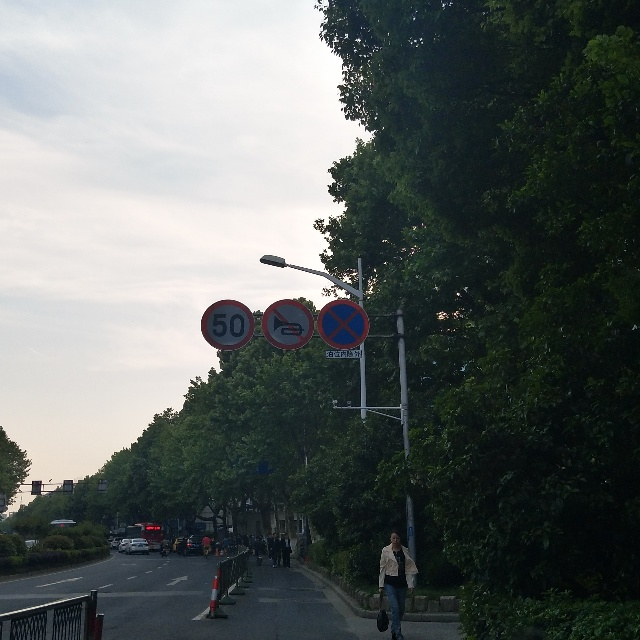nohonk: (267, 306, 309, 343)
stop: (321, 304, 362, 346)
